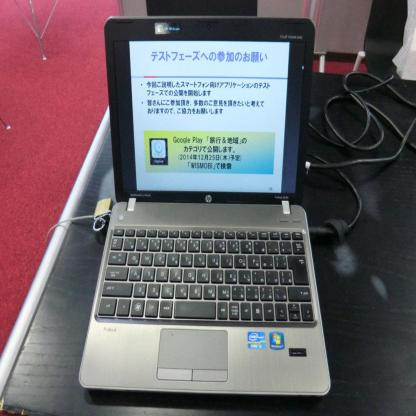board: (83, 16, 330, 416)
